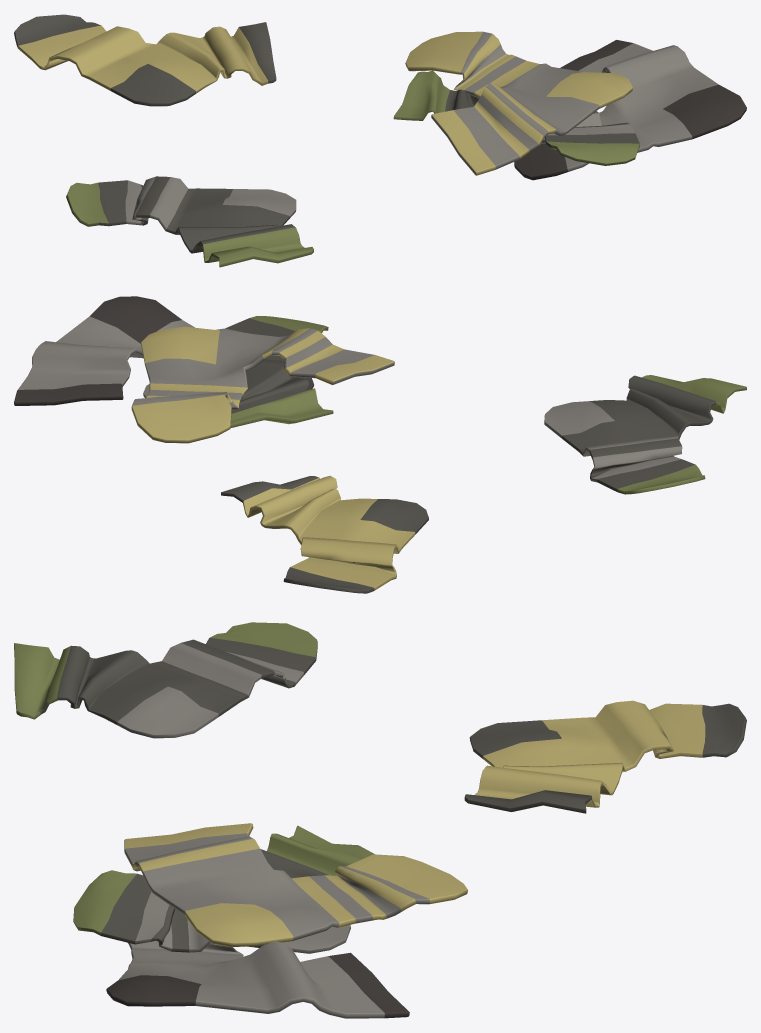
The model's file is ClothesPile_C.fbx.
The picture shows the model from 3 angles, top to bottom: view 1: azimuth 30°, elevation 25°; view 2: azimuth 150°, elevation 25°; view 3: azimuth 270°, elevation 25°; orthographic projection. The views are drawn at different scales.
Visible parts, largest first — view 1: ClothesPile_C; view 2: ClothesPile_C; view 3: ClothesPile_C.
Part boxes in pixels (x1,y1,x2,y2): ClothesPile_C: [14, 14, 746, 267]; ClothesPile_C: [14, 296, 746, 593]; ClothesPile_C: [14, 622, 746, 1018].
Size of the model in its own units: 0.6588 by 0.0695 by 0.5503.
